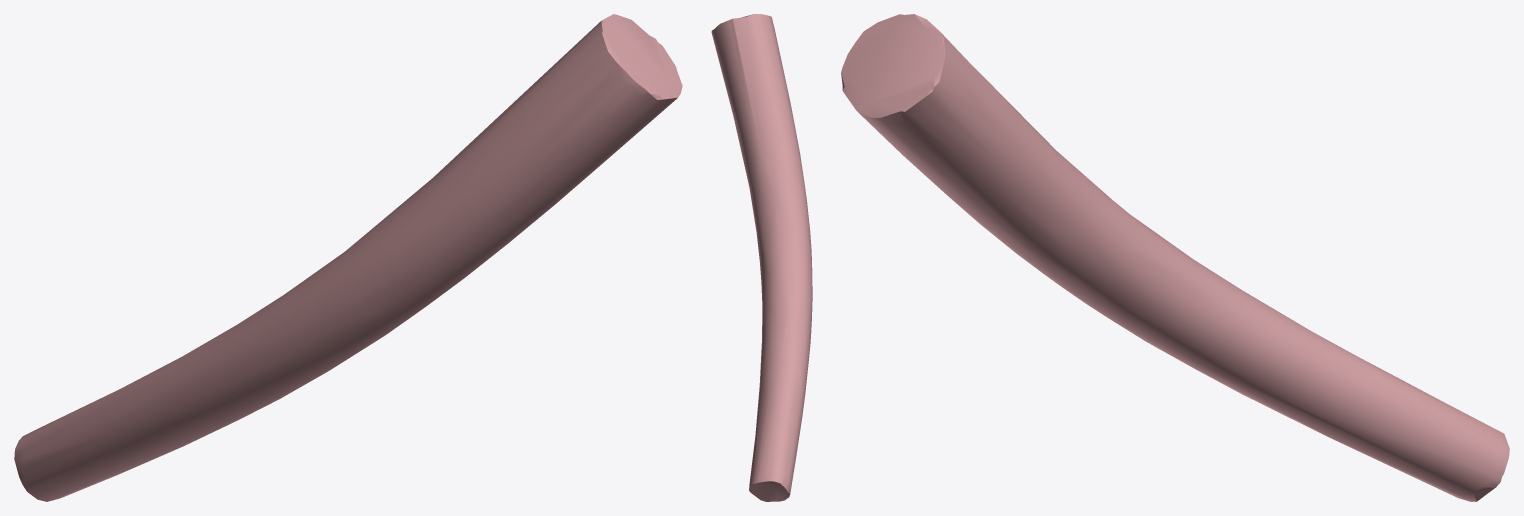
The model's file is fma68221_fj2489.glb.
3 views of the same model, side by side, from view 1: azimuth 30°, elevation 25°; view 2: azimuth 150°, elevation 25°; view 3: azimuth 270°, elevation 25° (orthographic). The views are drawn at different scales.
Visible parts, largest first — view 1: FMA68221_FJ2489; view 2: FMA68221_FJ2489; view 3: FMA68221_FJ2489.
Boxes of the visible parts, bbox=[...] form: FMA68221_FJ2489: bbox=[14, 14, 682, 501]; FMA68221_FJ2489: bbox=[711, 14, 812, 501]; FMA68221_FJ2489: bbox=[841, 14, 1509, 501].
Bounding box in the file's own units: 0.0124 × 0.018 × 0.0171.
